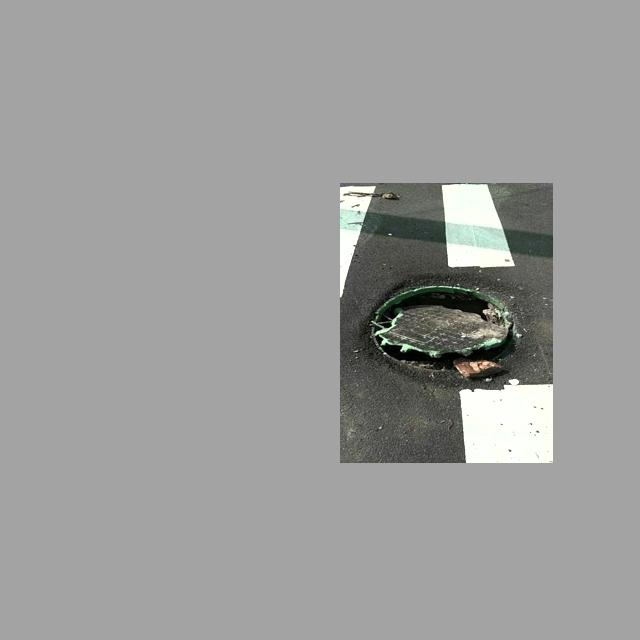broke: (347, 271, 546, 386)
